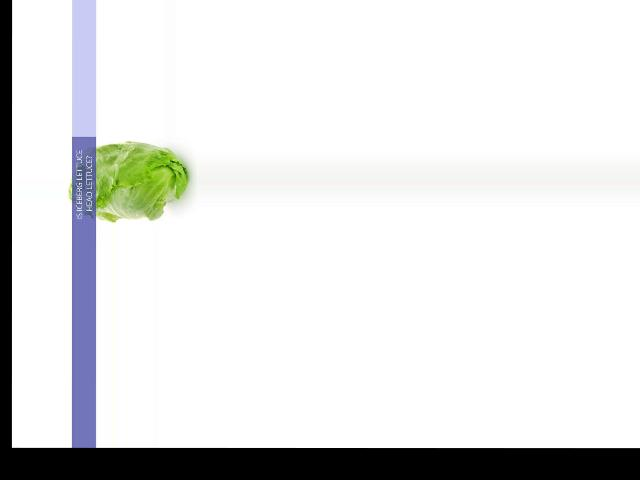lettuce: (68, 144, 193, 222)
